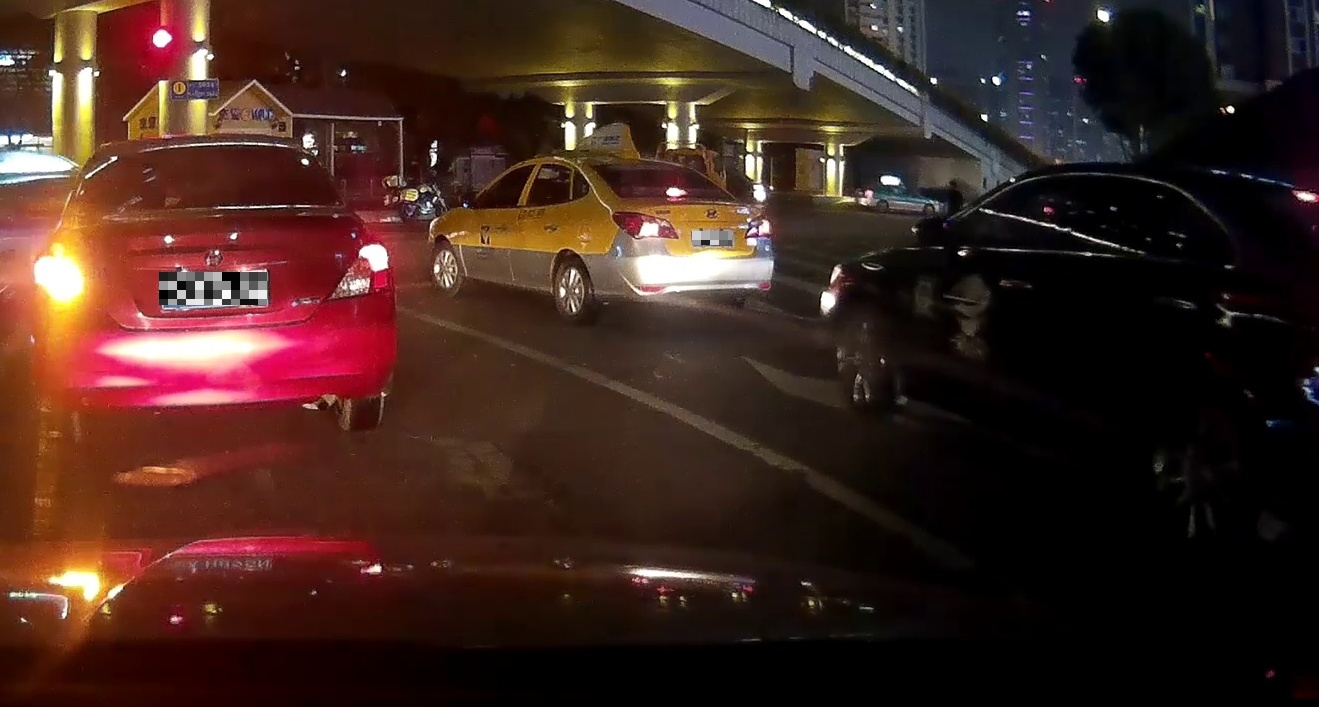L_light: (34, 251, 84, 304), (610, 212, 680, 240)
R_light: (324, 242, 392, 303), (744, 215, 773, 239)
T_light: (188, 146, 233, 153), (665, 190, 687, 195)
night-brake: (579, 153, 776, 329)
night-left: (33, 139, 398, 447)
plate_1: (159, 272, 268, 305)
plate_2: (692, 231, 732, 245)
